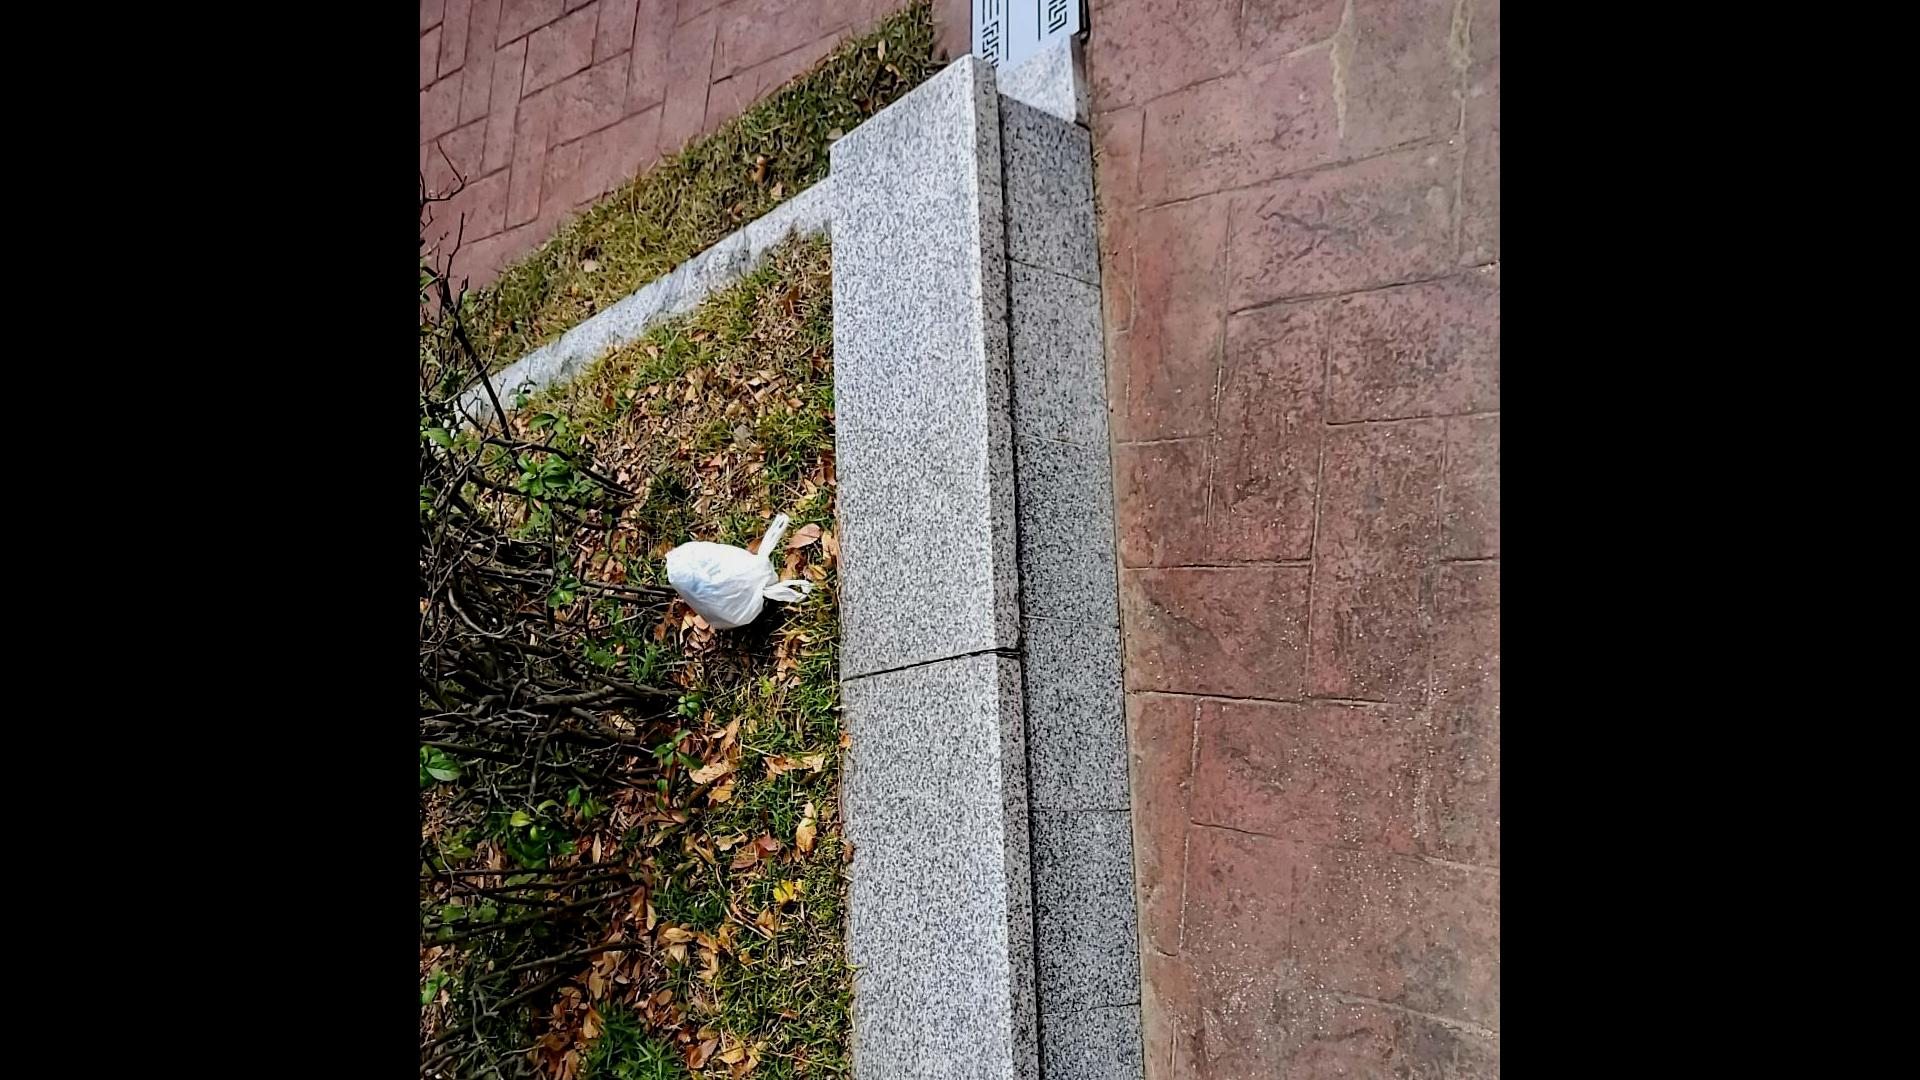white_bag: (658, 501, 815, 636)
